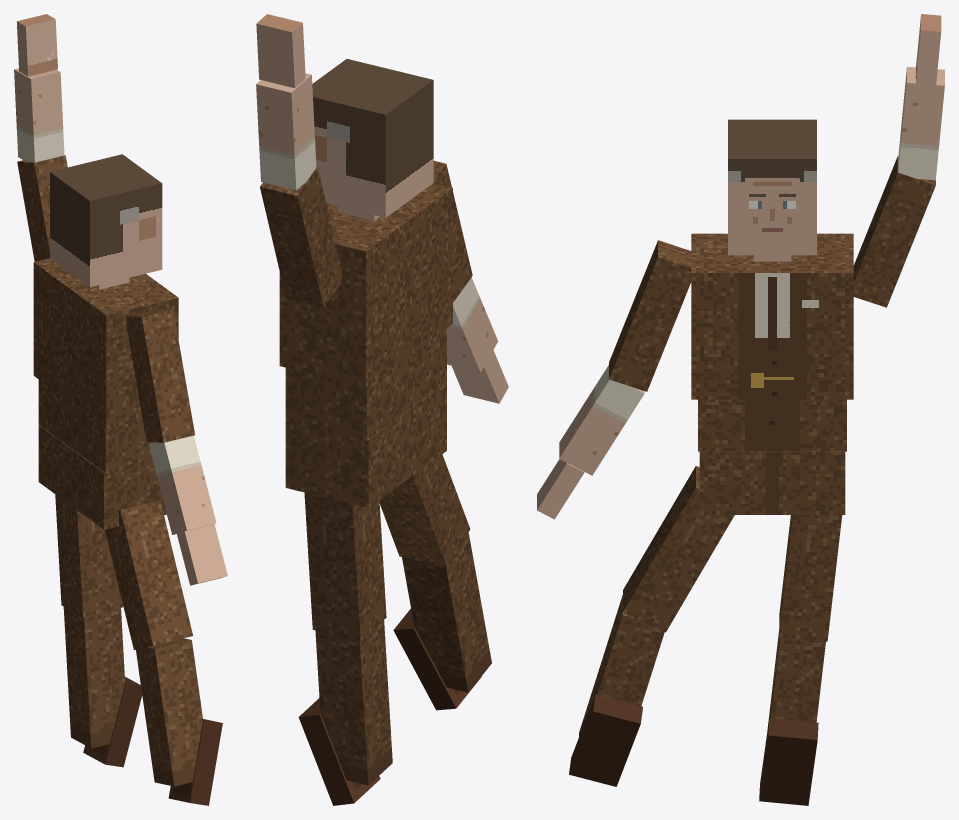
Rendered from char_ambrose_corpse.glb.
3 renders of one model, left to right at view 1: azimuth 30°, elevation 25°; view 2: azimuth 150°, elevation 25°; view 3: azimuth 270°, elevation 25°, orthographic. The views are drawn at different scales.
Visible parts, largest first — view 1: char_ambrose_corpse; view 2: char_ambrose_corpse; view 3: char_ambrose_corpse.
Part boxes in pixels (x1,y1,x2,y2): char_ambrose_corpse: (14,14,227,805); char_ambrose_corpse: (256,14,508,805); char_ambrose_corpse: (537,14,944,805).
Bounding box in the file's own units: 0.2307 × 2.12 × 1.01.
Materials: 1 (1 with a texture image).
